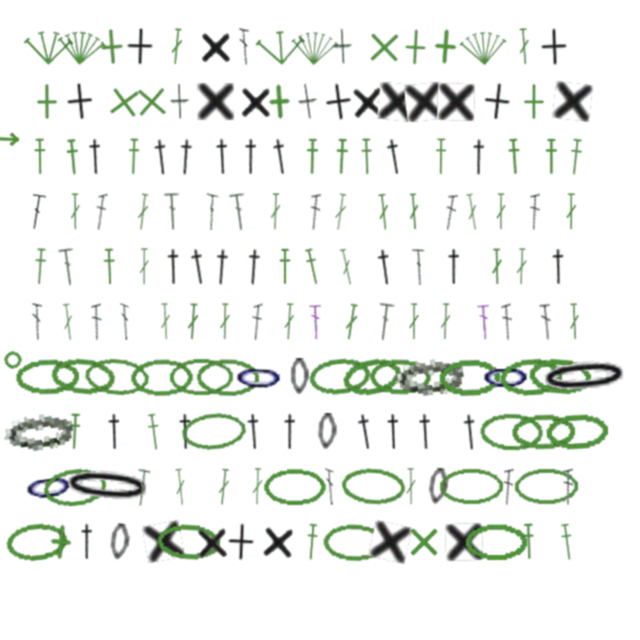chain: (60, 464, 155, 509), (537, 355, 632, 399), (2, 409, 75, 454), (339, 353, 406, 401), (393, 355, 465, 398), (41, 465, 108, 509), (49, 355, 116, 398), (180, 410, 247, 453), (307, 355, 373, 398), (4, 520, 70, 563), (83, 356, 150, 398), (340, 466, 407, 507), (498, 356, 563, 397), (527, 356, 592, 397), (155, 522, 221, 562), (544, 412, 609, 452), (479, 412, 543, 451), (15, 358, 79, 396), (130, 358, 194, 396), (511, 413, 575, 451), (21, 465, 77, 508), (169, 358, 234, 395), (196, 358, 259, 396), (369, 358, 432, 396), (322, 523, 385, 561), (263, 468, 327, 505), (439, 468, 503, 505), (514, 468, 578, 505), (438, 358, 500, 396), (464, 523, 527, 560), (233, 358, 285, 396), (480, 358, 532, 395), (426, 467, 450, 506), (108, 523, 131, 561), (317, 413, 337, 450), (290, 358, 309, 395)
double: (27, 193, 47, 231), (229, 193, 249, 231), (58, 248, 78, 286), (375, 303, 395, 341), (337, 248, 356, 286), (132, 468, 151, 506), (332, 193, 349, 231), (464, 193, 481, 231), (343, 303, 360, 341), (164, 193, 181, 230), (135, 193, 151, 231), (60, 303, 76, 341), (376, 193, 391, 231), (443, 193, 458, 231), (539, 303, 554, 341), (173, 468, 188, 506), (216, 468, 231, 506), (169, 28, 184, 65), (204, 193, 219, 230), (517, 28, 531, 65), (94, 193, 108, 230), (407, 193, 421, 230), (411, 248, 425, 285), (186, 303, 200, 340), (282, 303, 296, 340), (477, 303, 491, 340), (269, 193, 282, 230), (515, 248, 528, 285), (159, 303, 172, 340), (309, 303, 322, 340), (439, 303, 452, 340), (568, 303, 581, 340), (251, 468, 264, 505), (69, 193, 81, 230), (309, 193, 321, 230), (495, 193, 507, 230), (565, 193, 577, 230), (138, 248, 150, 285), (491, 248, 503, 285), (219, 303, 231, 340), (251, 303, 263, 340), (408, 303, 420, 340), (501, 303, 513, 340), (405, 468, 417, 505), (502, 468, 514, 505), (529, 193, 540, 230), (31, 303, 42, 340), (91, 303, 102, 340), (239, 28, 249, 65), (120, 303, 130, 340), (325, 468, 335, 505), (563, 468, 573, 505)
fan: (55, 26, 107, 68), (255, 27, 306, 67), (289, 27, 340, 67), (458, 27, 509, 67), (24, 28, 73, 66)
half_double: (268, 137, 293, 176), (382, 137, 407, 176), (186, 247, 211, 286), (353, 412, 378, 451), (174, 138, 198, 176), (210, 248, 234, 286), (242, 248, 266, 286), (373, 248, 397, 286), (150, 138, 173, 176), (459, 413, 482, 451), (468, 138, 490, 176), (302, 247, 323, 286), (240, 138, 262, 175), (443, 248, 465, 285), (243, 413, 265, 450), (279, 413, 301, 450), (76, 523, 98, 560), (85, 138, 106, 175), (212, 138, 233, 175), (163, 248, 184, 285), (548, 248, 569, 285), (104, 413, 125, 450), (175, 413, 196, 450), (383, 413, 404, 450), (415, 413, 436, 450), (145, 413, 163, 451), (558, 523, 576, 561), (64, 138, 81, 176), (567, 138, 584, 176), (304, 523, 320, 561), (506, 138, 522, 175), (32, 248, 48, 285), (126, 138, 141, 175), (334, 138, 349, 175), (359, 138, 374, 175), (102, 248, 117, 285), (67, 413, 82, 450), (521, 523, 536, 560), (33, 138, 47, 175), (305, 138, 319, 175), (434, 138, 448, 175), (544, 138, 558, 175), (278, 248, 292, 285)
noise: (1, 348, 24, 371), (0, 131, 21, 146)
single: (368, 520, 412, 564), (142, 520, 185, 563), (103, 81, 145, 123), (552, 81, 593, 122), (377, 82, 417, 122), (404, 82, 444, 122), (41, 522, 81, 562), (92, 27, 131, 66), (426, 27, 465, 66), (132, 82, 171, 121), (260, 82, 299, 121), (365, 28, 403, 66), (396, 28, 434, 66), (437, 83, 475, 121), (445, 523, 483, 561), (260, 522, 297, 561), (350, 82, 386, 121), (28, 83, 65, 120), (197, 83, 234, 120), (515, 83, 552, 120), (405, 523, 442, 560), (195, 523, 230, 561), (322, 82, 354, 122), (199, 28, 233, 65), (239, 83, 273, 120), (64, 82, 95, 121), (481, 82, 512, 121), (539, 28, 568, 66), (226, 523, 255, 561), (125, 28, 154, 65), (296, 82, 320, 121), (333, 28, 353, 65), (170, 83, 190, 120)
